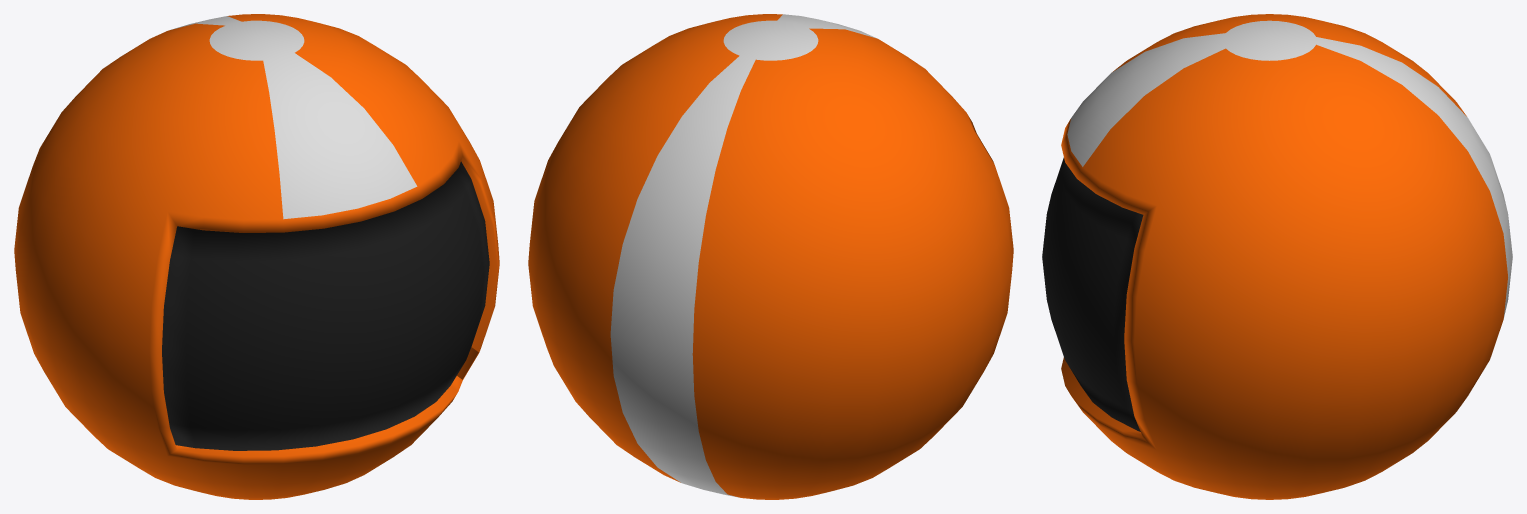
File: helmet.glb
3 renders of one model, left to right at view 1: azimuth 30°, elevation 25°; view 2: azimuth 150°, elevation 25°; view 3: azimuth 270°, elevation 25°, orthographic.
Parts seen in each view (by area): view 1: Sphere; view 2: Sphere; view 3: Sphere.
Part boxes in pixels (x1=…): Sphere: x1=14, y1=14, x2=499, y2=499; Sphere: x1=528, y1=14, x2=1013, y2=499; Sphere: x1=1042, y1=14, x2=1512, y2=499.
Size of the model in its own units: 1.96 by 1.96 by 1.9.
